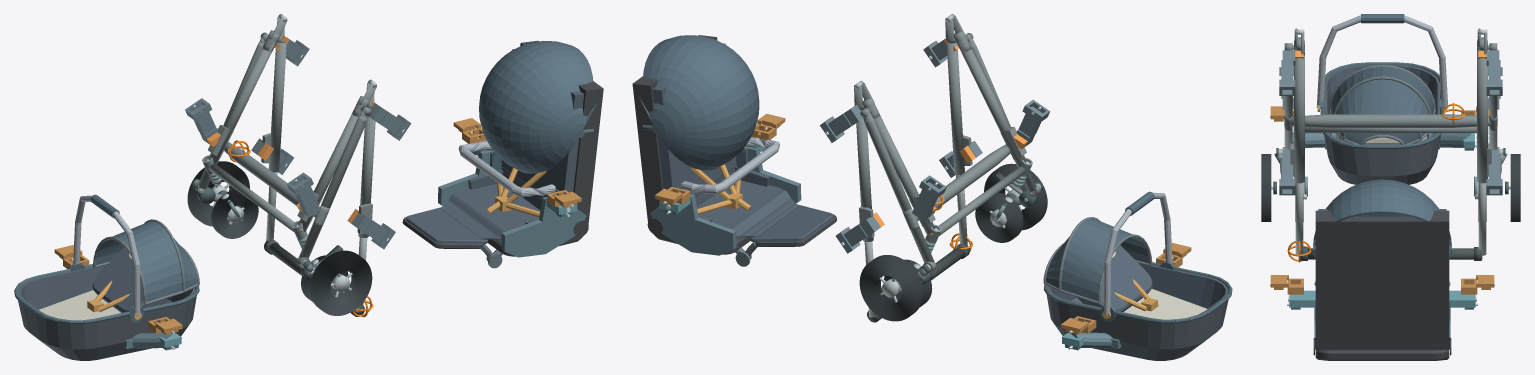
File: D06_w650_state3_wheel_S.glb
3 views of the same model, side by side, from view 1: azimuth 30°, elevation 25°; view 2: azimuth 150°, elevation 25°; view 3: azimuth 270°, elevation 25° (orthographic). The views are drawn at different scales.
Parts seen in each view (by area): view 1: D06_Lower, D06_Upper, D06_Lower_Mount_L, RL_tire.011, FR_tire.011, main_upper_1.012, V46_rear_leg_-1.011, main_lower_1.012, RR_tire.011, V46_rearbar.011, main_lower_-1.012, main_upper_-1.012 (+10 smaller); view 2: D06_Lower, D06_Upper, D06_Lower_Mount_L, RR_tire.011, FL_tire.011, main_upper_-1.012, V46_rear_leg_1.011, main_lower_-1.012, V46_rearbar.011, RL_tire.011, main_lower_1.012, main_upper_1.012 (+11 smaller); view 3: D06_Lower, D06_Upper, V46_rearbar.011, main_upper_1.012, main_upper_-1.012, D06_Lower_Mount_L, D06_Upper_Mount_H, front_fixed_round_tube.011, RL_tire.011, RR_tire.011, Universal_Cabin_Receiver_M_-1, Universal_Cabin_Receiver_M_1 (+12 smaller).
Part boxes in pixels (x1,y1,x2,y2): D06_Lower: [402, 40, 603, 268]; D06_Upper: [14, 194, 199, 360]; D06_Lower_Mount_L: [438, 141, 586, 257]; RL_tire.011: [309, 250, 372, 315]; FR_tire.011: [211, 189, 258, 238]; main_upper_1.012: [268, 42, 286, 172]; V46_rear_leg_-1.011: [298, 115, 367, 258]; main_lower_1.012: [208, 42, 274, 164]; RR_tire.011: [187, 161, 249, 226]; V46_rearbar.011: [224, 142, 317, 217]; main_lower_-1.012: [298, 114, 359, 231]; main_upper_-1.012: [358, 108, 375, 237]; D06_Lower: [632, 35, 836, 266]; D06_Upper: [1043, 191, 1232, 360]; D06_Lower_Mount_L: [650, 137, 801, 255]; RR_tire.011: [859, 255, 923, 321]; FL_tire.011: [975, 193, 1023, 242]; main_upper_-1.012: [947, 42, 964, 175]; V46_rear_leg_1.011: [864, 117, 934, 262]; main_lower_-1.012: [958, 42, 1026, 167]; V46_rearbar.011: [915, 144, 1010, 220]; RL_tire.011: [984, 163, 1047, 230]; main_lower_1.012: [871, 114, 935, 235]; main_upper_1.012: [856, 110, 873, 241]; D06_Lower: [1313, 179, 1451, 360]; D06_Upper: [1316, 14, 1448, 184]; V46_rearbar.011: [1291, 114, 1490, 127]; main_upper_1.012: [1477, 55, 1487, 183]; main_upper_-1.012: [1294, 55, 1304, 183]; D06_Lower_Mount_L: [1287, 290, 1477, 349]; D06_Upper_Mount_H: [1292, 132, 1476, 150]; front_fixed_round_tube.011: [1305, 126, 1476, 132]; RL_tire.011: [1261, 154, 1271, 221]; RR_tire.011: [1510, 154, 1520, 221]; Universal_Cabin_Receiver_M_-1: [1279, 50, 1295, 95]; Universal_Cabin_Receiver_M_1: [1486, 50, 1502, 95].
Size of the model in its own units: 1.92 by 0.7726 by 0.766.
